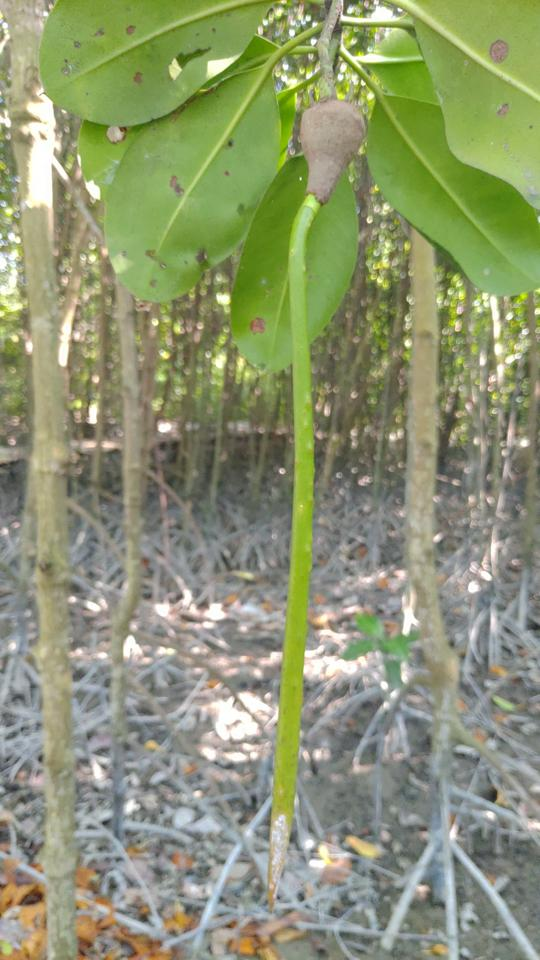setengah matang: (257, 81, 374, 919)
